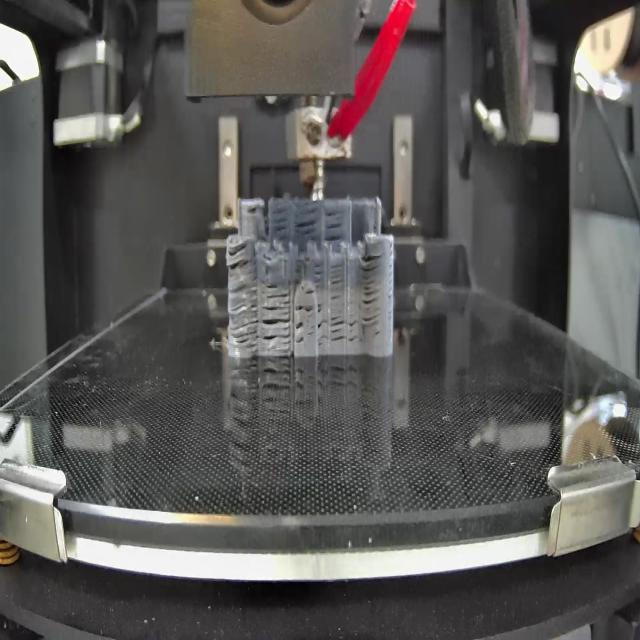cracks: (228, 285, 258, 346), (361, 253, 383, 330), (262, 304, 290, 348), (227, 242, 256, 274), (296, 206, 321, 240), (326, 208, 346, 244), (272, 208, 291, 240), (266, 278, 292, 300), (330, 314, 347, 343), (332, 259, 344, 300), (318, 303, 328, 348), (349, 310, 360, 346), (312, 260, 326, 286), (293, 258, 305, 286), (295, 321, 306, 344), (295, 302, 315, 314), (245, 206, 263, 216), (304, 288, 316, 297)
